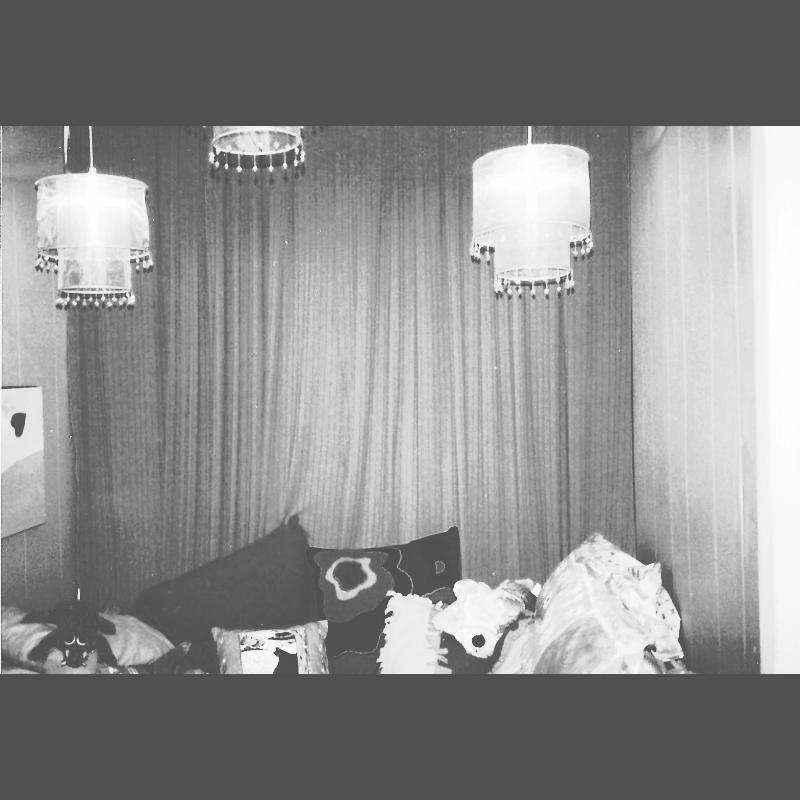pillow: (125, 509, 335, 673), (308, 530, 460, 674), (1, 596, 172, 674), (368, 584, 468, 674), (208, 629, 334, 673)
